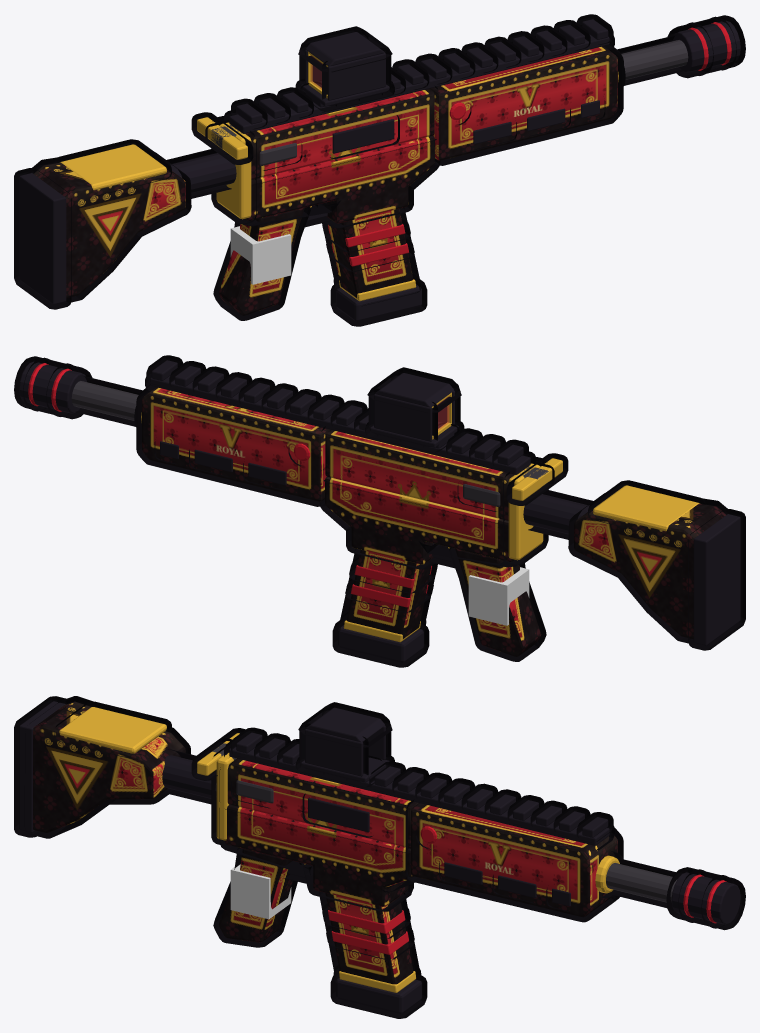
The model's file is Phantom_Royal.fbx.
The picture shows the model from 3 angles, top to bottom: view 1: azimuth 30°, elevation 25°; view 2: azimuth 150°, elevation 25°; view 3: azimuth 330°, elevation 25°; orthographic projection.
Parts seen in each view (by area): view 1: Body_Royal, Body_Noir, Body_Contour, Body_Or, Magazine_Royal, Body_GrisFonce, Root, Magazine_Contour, Magazine_Noir, Magazine_Rouge, ChargingHandle_Or, ChargingHandle_Contour (+2 smaller); view 2: Body_Royal, Body_Noir, Body_Contour, Body_Or, Magazine_Royal, Body_GrisFonce, Root, Magazine_Contour, Magazine_Noir, Magazine_Rouge, ChargingHandle_Contour, ChargingHandle_Or (+2 smaller); view 3: Body_Royal, Body_Noir, Body_Contour, Body_Or, Magazine_Royal, Body_GrisFonce, Magazine_Contour, Root, Magazine_Noir, Magazine_Rouge, Body_Rouge, Magazine_Or (+1 smaller).
Part boxes in pixels (x1,y1,x2,y2): Body_Royal: (33, 46, 617, 315); Body_Noir: (19, 19, 740, 304); Body_Contour: (14, 14, 745, 320); Body_Or: (60, 51, 618, 219); Magazine_Royal: (328, 209, 413, 297); Body_GrisFonce: (259, 40, 688, 165); Root: (230, 226, 291, 284); Magazine_Contour: (322, 207, 427, 326); Magazine_Noir: (336, 284, 421, 321); Magazine_Rouge: (328, 224, 408, 266); ChargingHandle_Or: (197, 117, 247, 159); ChargingHandle_Contour: (191, 112, 253, 164); Body_Royal: (142, 387, 726, 656); Body_Noir: (19, 360, 740, 645); Body_Contour: (14, 355, 745, 661); Body_Or: (141, 392, 699, 560); Magazine_Royal: (346, 550, 431, 638); Body_GrisFonce: (71, 381, 500, 506); Root: (468, 567, 529, 625); Magazine_Contour: (332, 548, 437, 667); Magazine_Noir: (338, 625, 423, 662); Magazine_Rouge: (351, 565, 431, 607); ChargingHandle_Contour: (506, 453, 568, 505); ChargingHandle_Or: (512, 458, 562, 500); Body_Royal: (33, 701, 617, 942); Body_Noir: (19, 701, 740, 924); Body_Contour: (14, 696, 745, 947); Body_Or: (59, 707, 619, 893); Magazine_Royal: (325, 893, 413, 984); Body_GrisFonce: (236, 780, 677, 902); Magazine_Contour: (318, 891, 427, 1018); Root: (230, 864, 291, 919); Magazine_Noir: (336, 977, 421, 1013); Magazine_Rouge: (328, 910, 408, 954); Body_Rouge: (420, 826, 726, 923); Magazine_Or: (339, 971, 415, 992).
Bounding box in the file's own units: 3.66 × 1.39 × 0.4169.
Materials: 17 (2 with a texture image).
